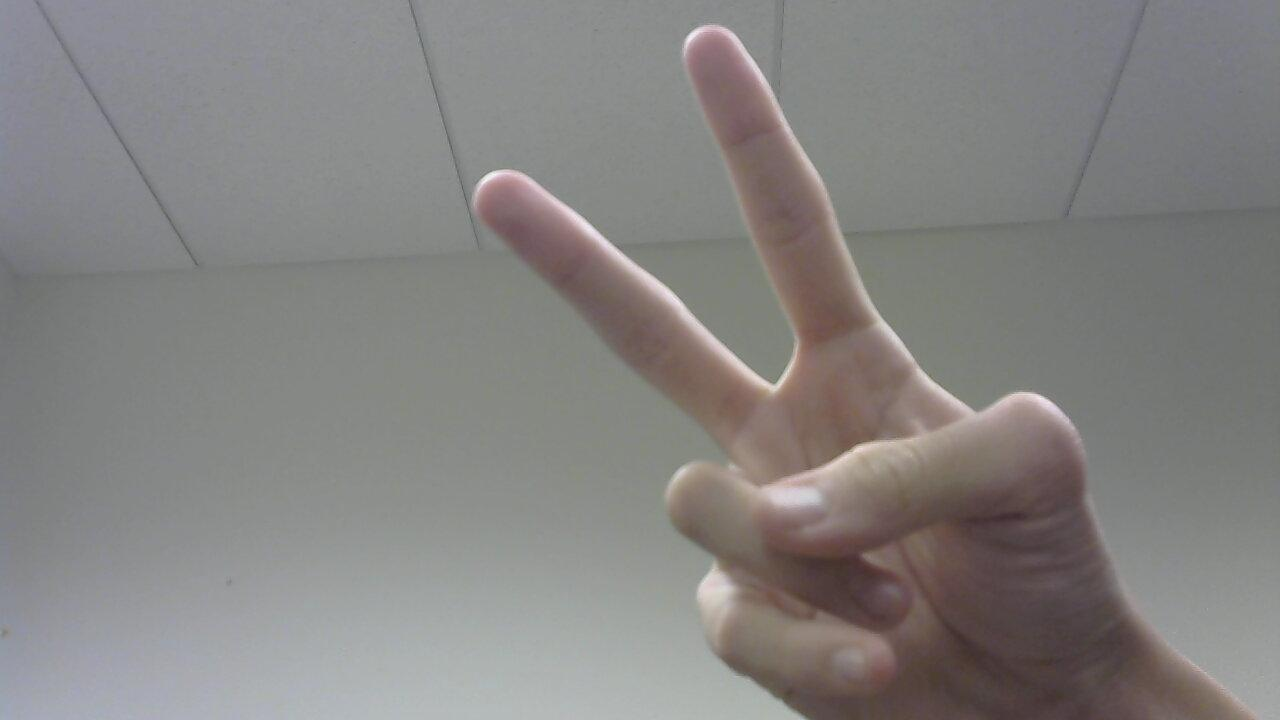peace: (443, 32, 1122, 720)
